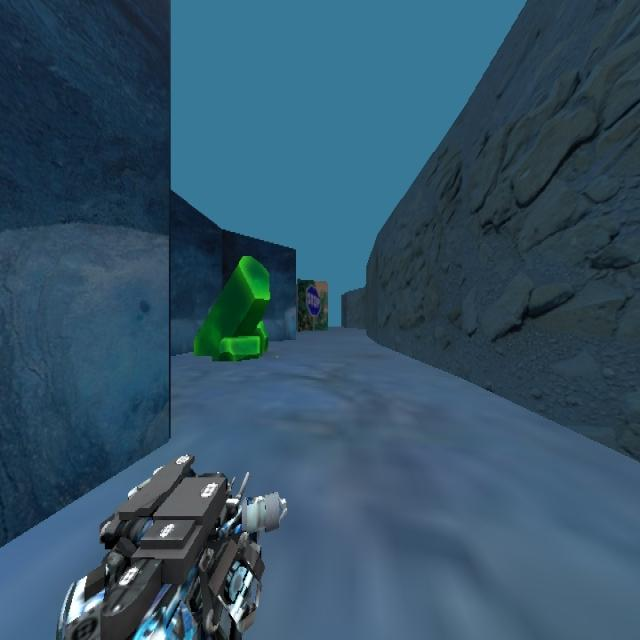Diamon: (192, 254, 271, 362)
Stop_Sign: (304, 284, 321, 316)
